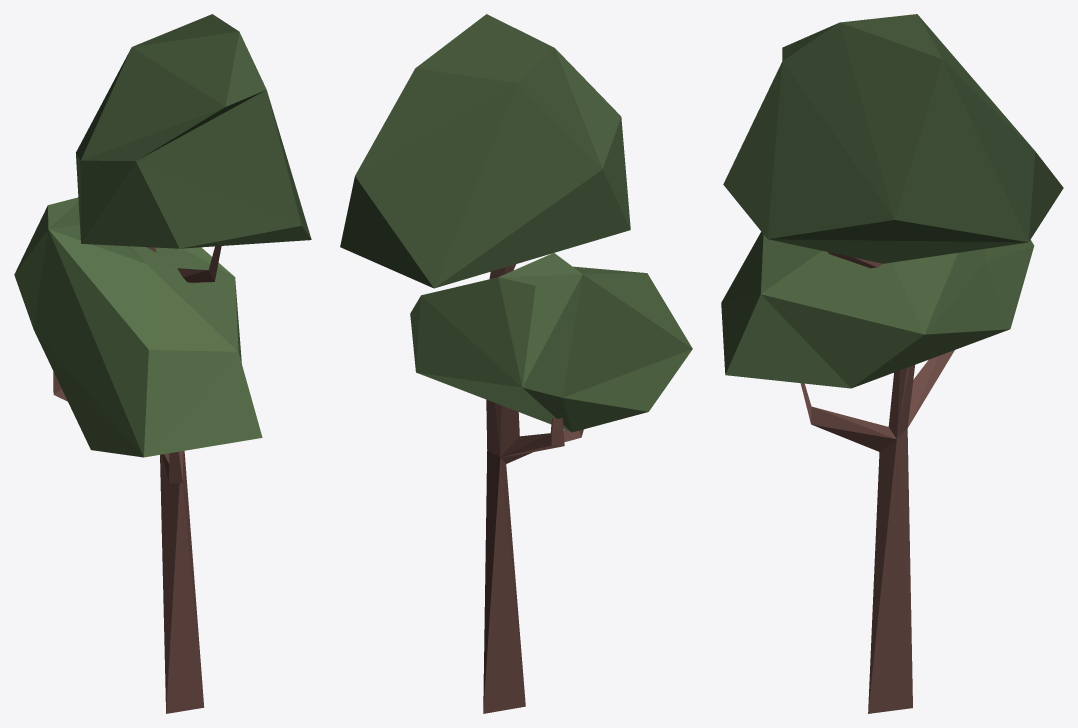
The picture shows the model from 3 angles, left to right: view 1: azimuth 30°, elevation 25°; view 2: azimuth 150°, elevation 25°; view 3: azimuth 270°, elevation 25°; orthographic projection. The views are drawn at different scales.
Visible parts, largest first — view 1: cube-031; view 2: cube-031; view 3: cube-031.
Part boxes in pixels (left/top/right/bottom): cube-031: left=14, top=14, right=311, bottom=713; cube-031: left=340, top=14, right=692, bottom=713; cube-031: left=721, top=14, right=1063, bottom=713.
Size of the model in its own units: 1.16 by 3.42 by 1.51.
